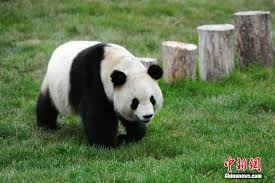panda: (35, 39, 165, 148)
